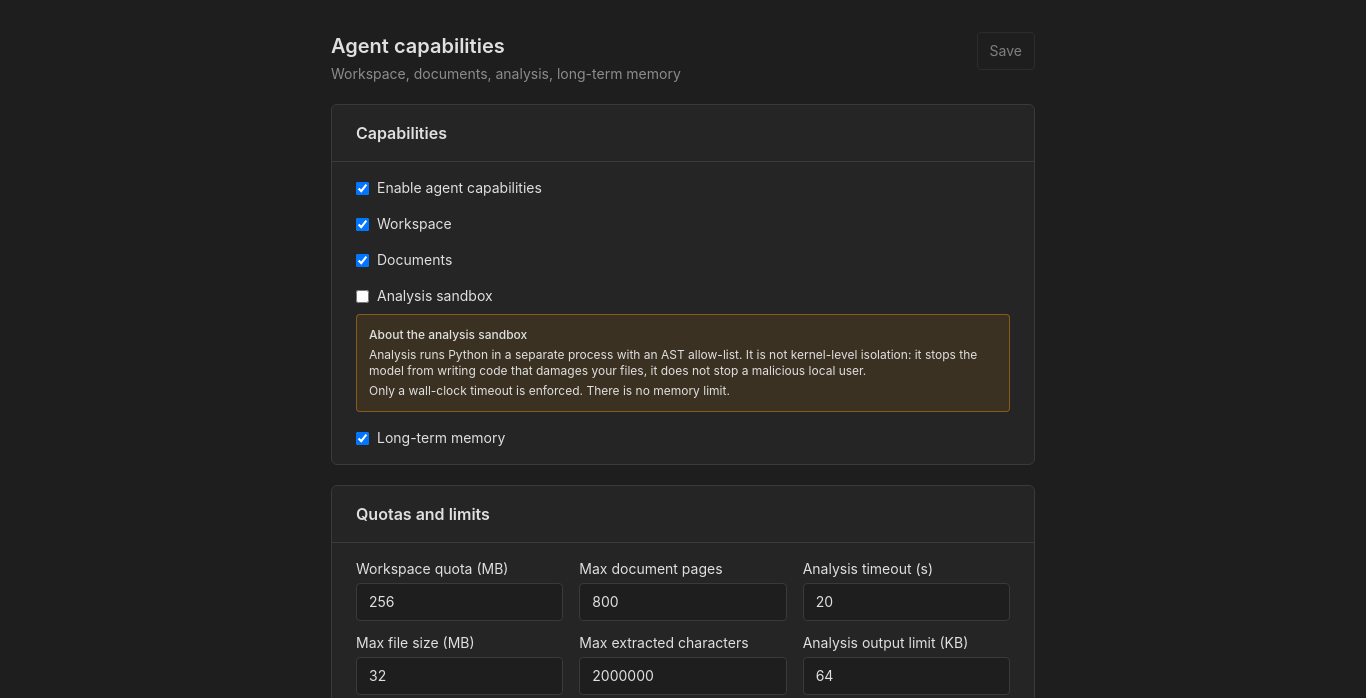
Test case: Agent 能力设置面板 › 总开关关闭时子能力 aria-disabled 且不进入保存 diff
Click the checkbox labelled "Enable agent capabilities" at (362, 188), box [356,182,369,195]
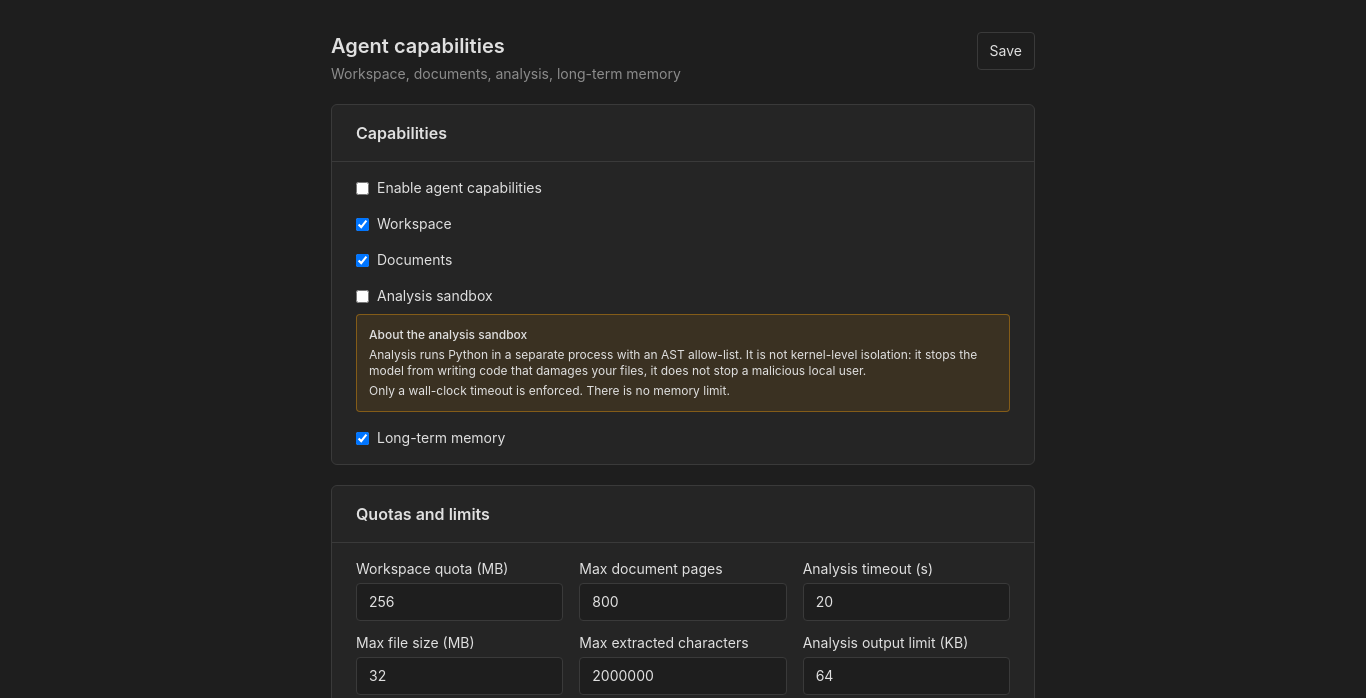
Click the checkbox labelled "Workspace" at (362, 224), box [356,218,369,231]
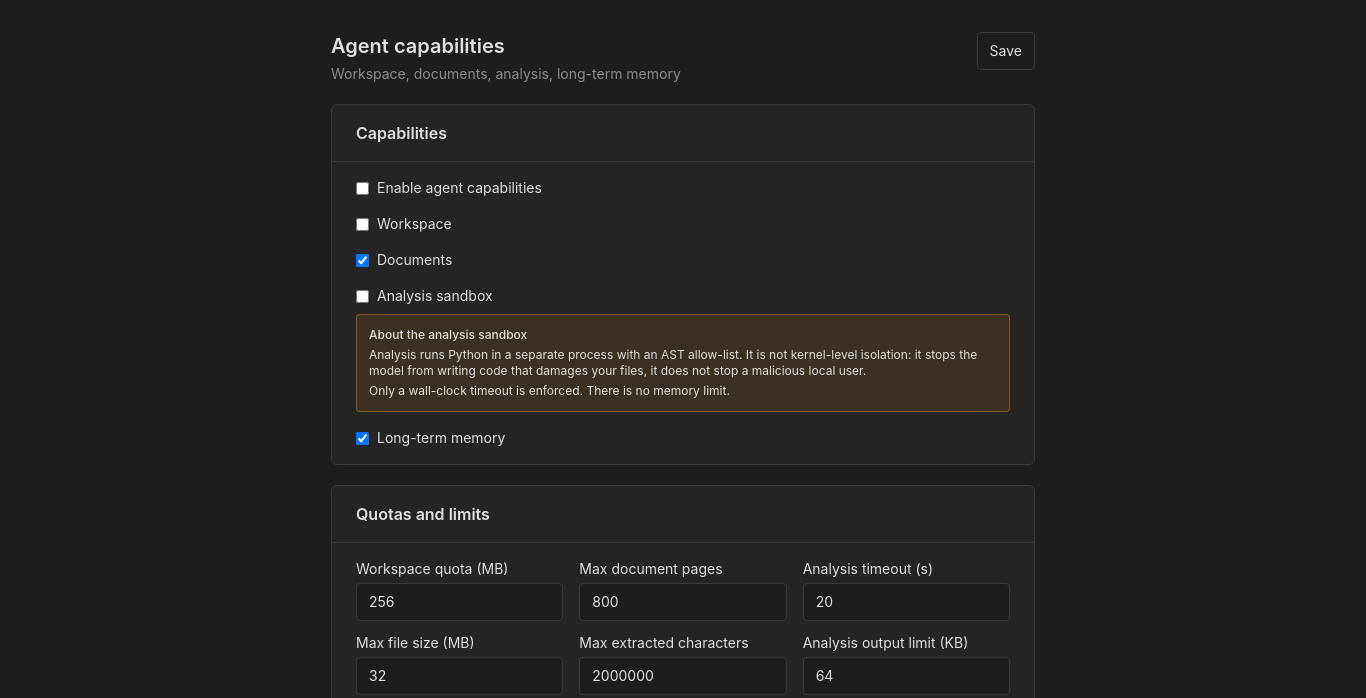
Click the button "Save" at (1006, 51), box [977,32,1035,70]
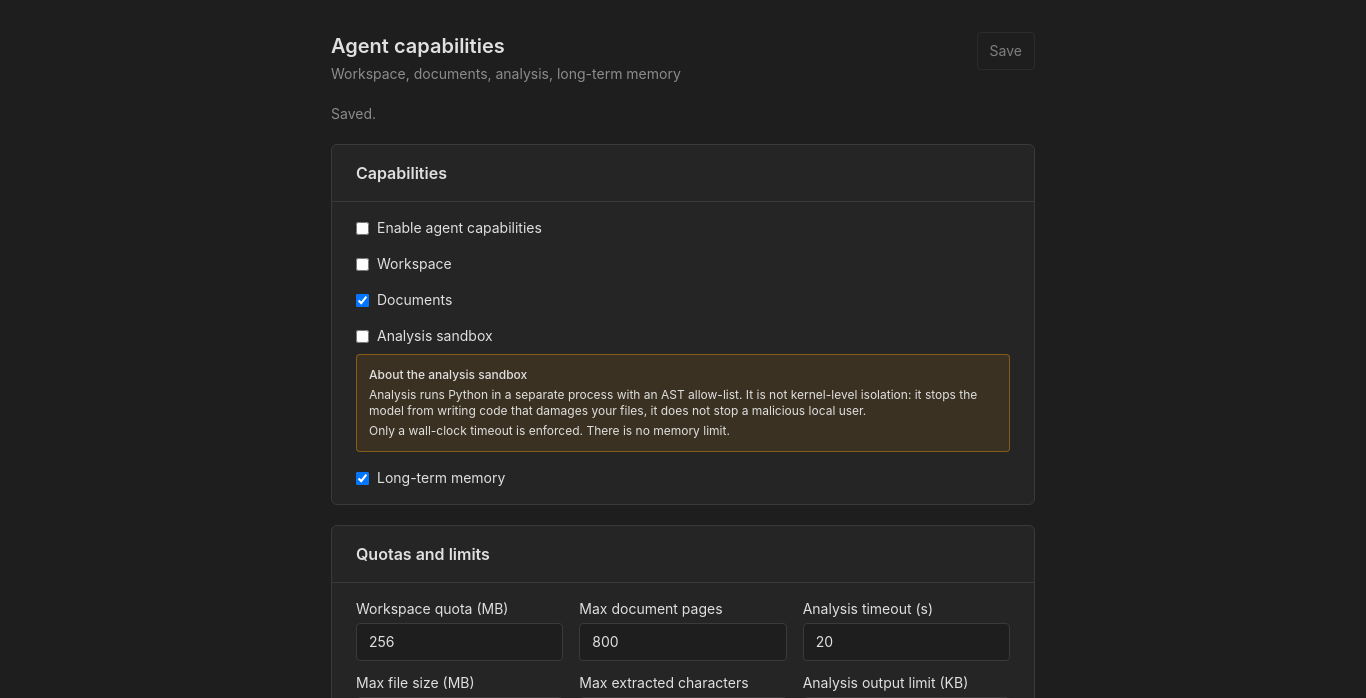
Expected: the text "Saved." is shown, [331,105,376,122]
